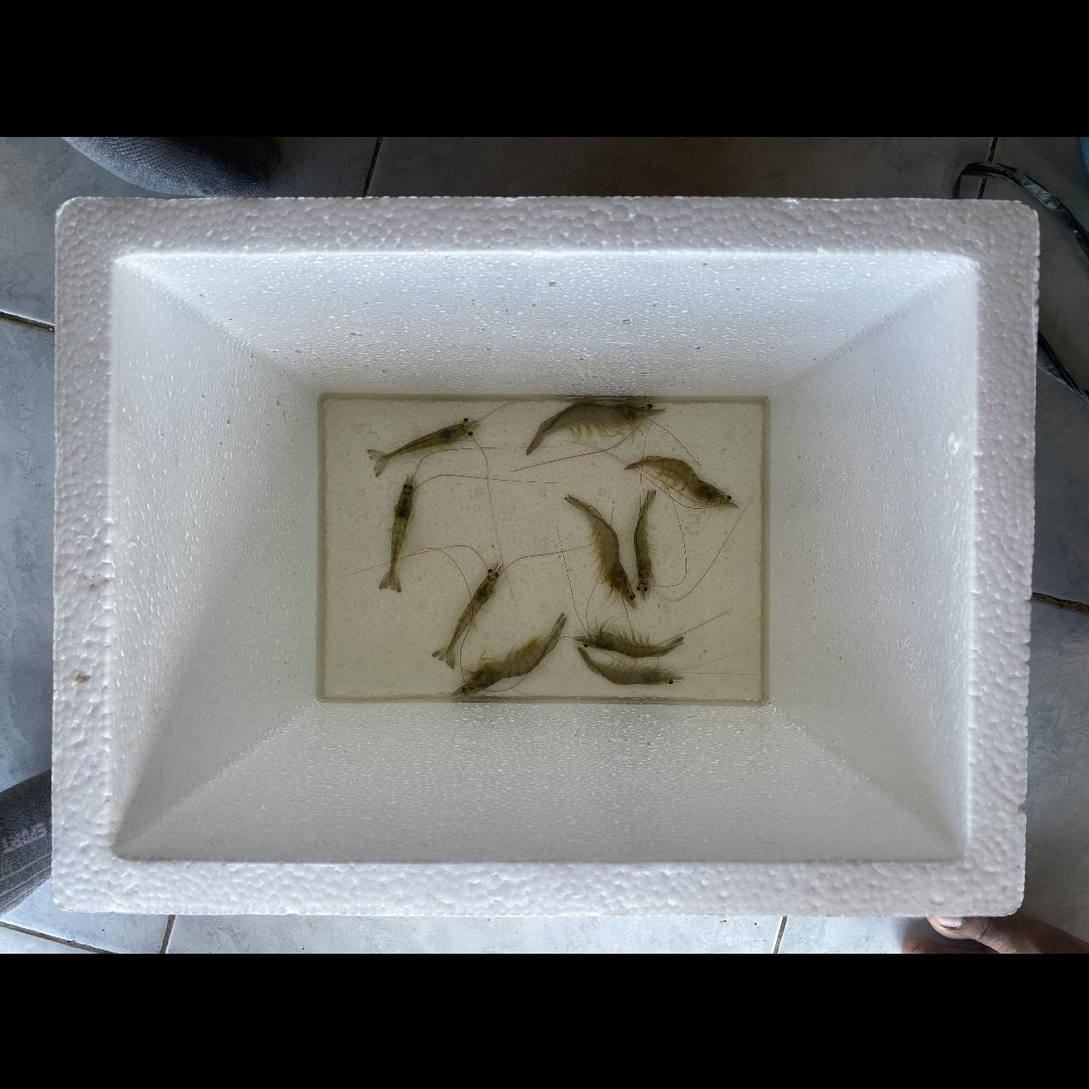side_shrimp: (470, 623, 563, 687), (533, 402, 641, 448), (573, 499, 623, 585), (631, 456, 718, 502), (582, 647, 659, 684), (597, 635, 679, 657), (635, 492, 654, 581)
top_shrimp: (448, 575, 493, 655), (375, 424, 464, 461), (390, 493, 412, 585)
